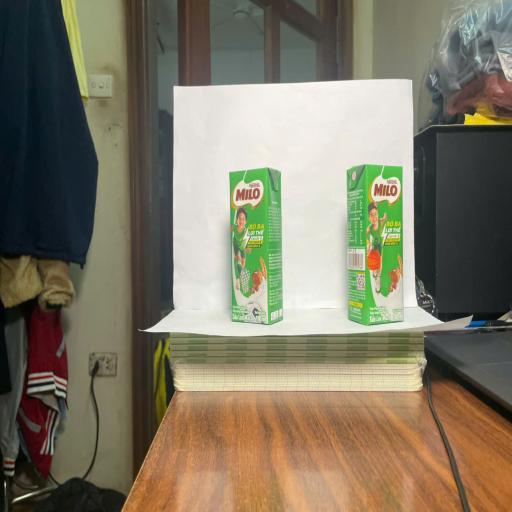milo: (346, 164, 404, 326), (229, 170, 283, 324)
